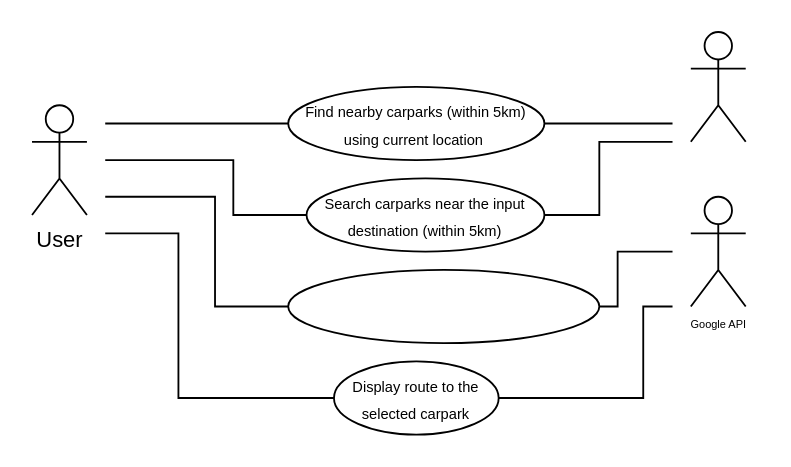
The diagram is 791 pixels wide and 467 high, and some of its shapes have lost their labels. The centre of each missing label's shape, as x and y in pixels:
Display traffic status & travel time for the selected carpark: pixel 442 305
Government API: pixel 717 86
